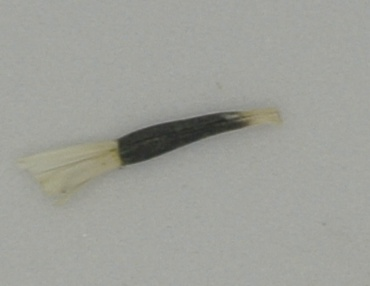เมล็ดดีติดกัน: (13, 105, 287, 209)
